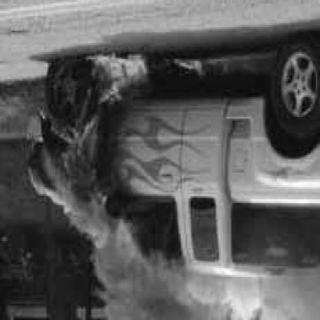Fire: (174, 63, 206, 83)
